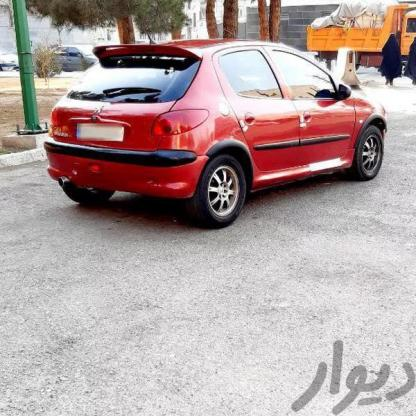Car: (44, 40, 390, 225), (295, 0, 415, 75)
